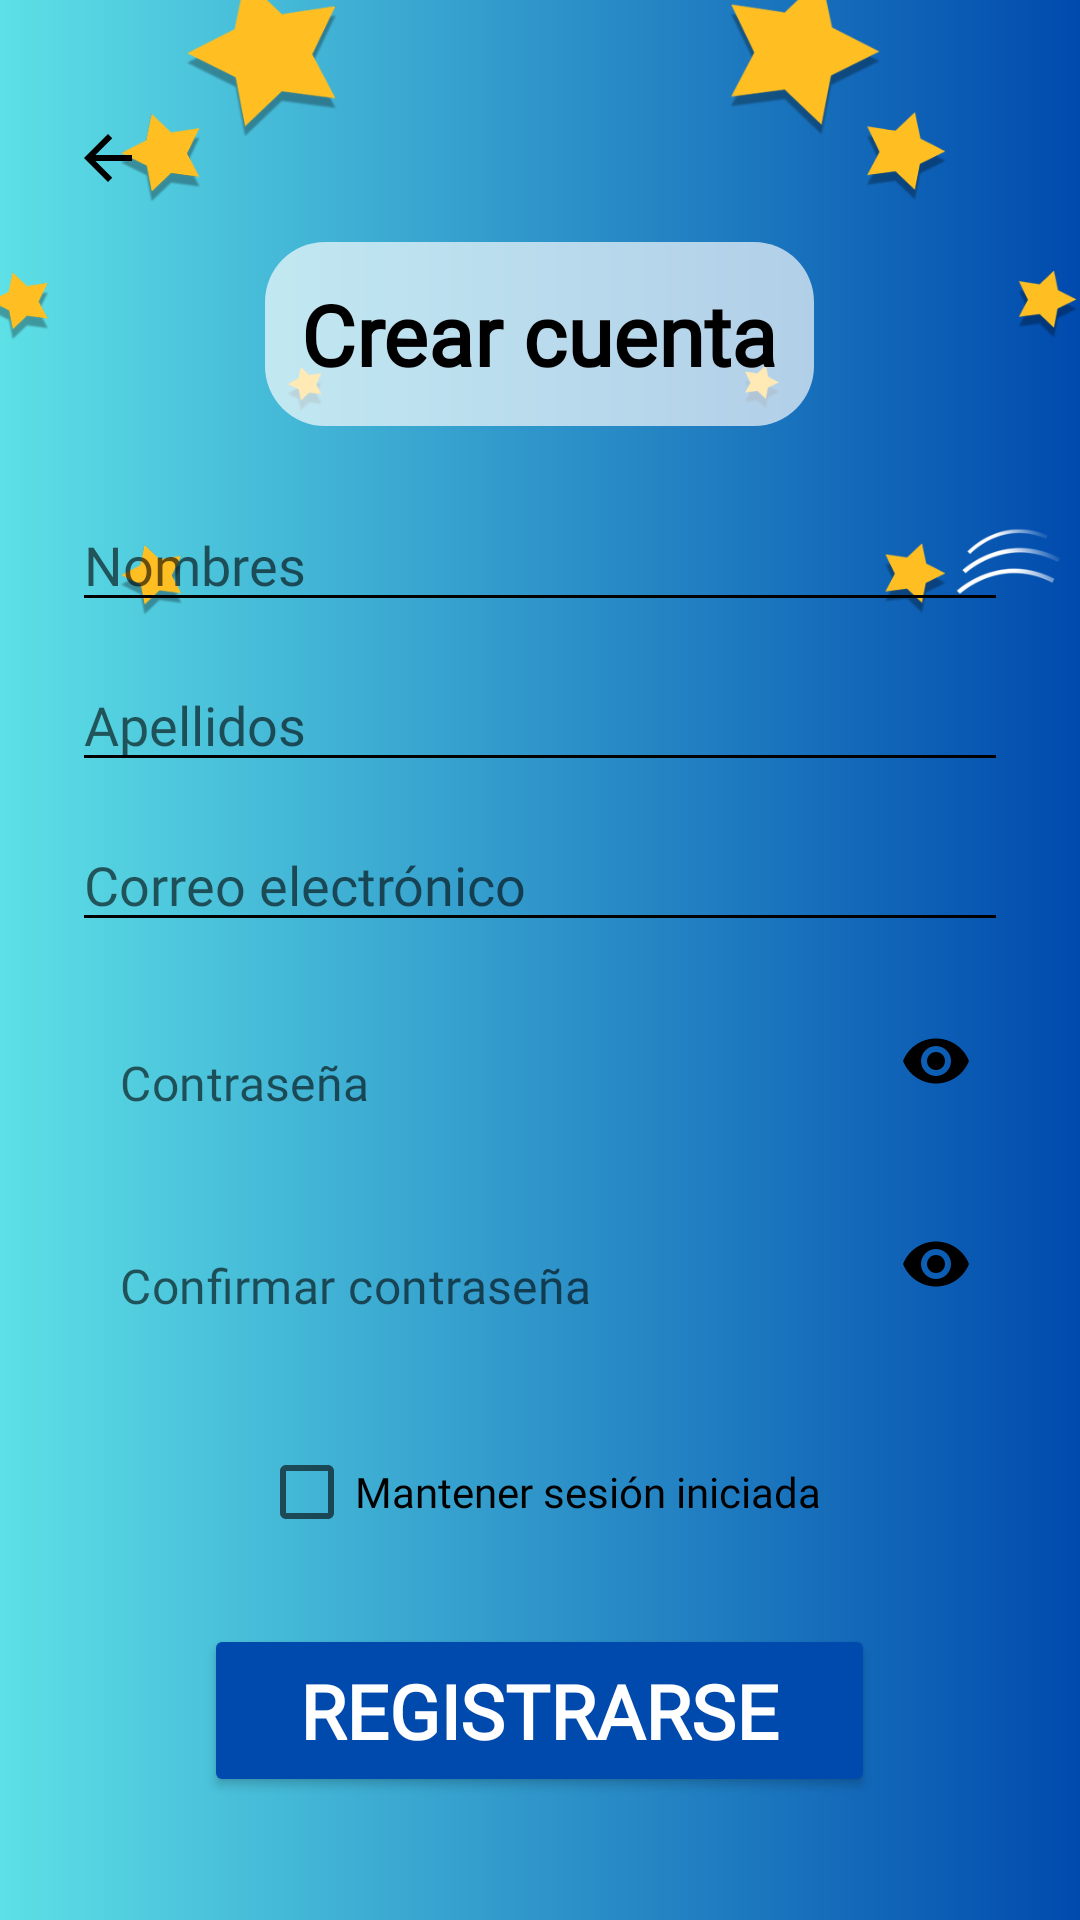

Icons on this 1080 × 1920 Android screen, each with its box as (x1, y1, x2, y2):
Volver: (84, 134, 144, 182)
